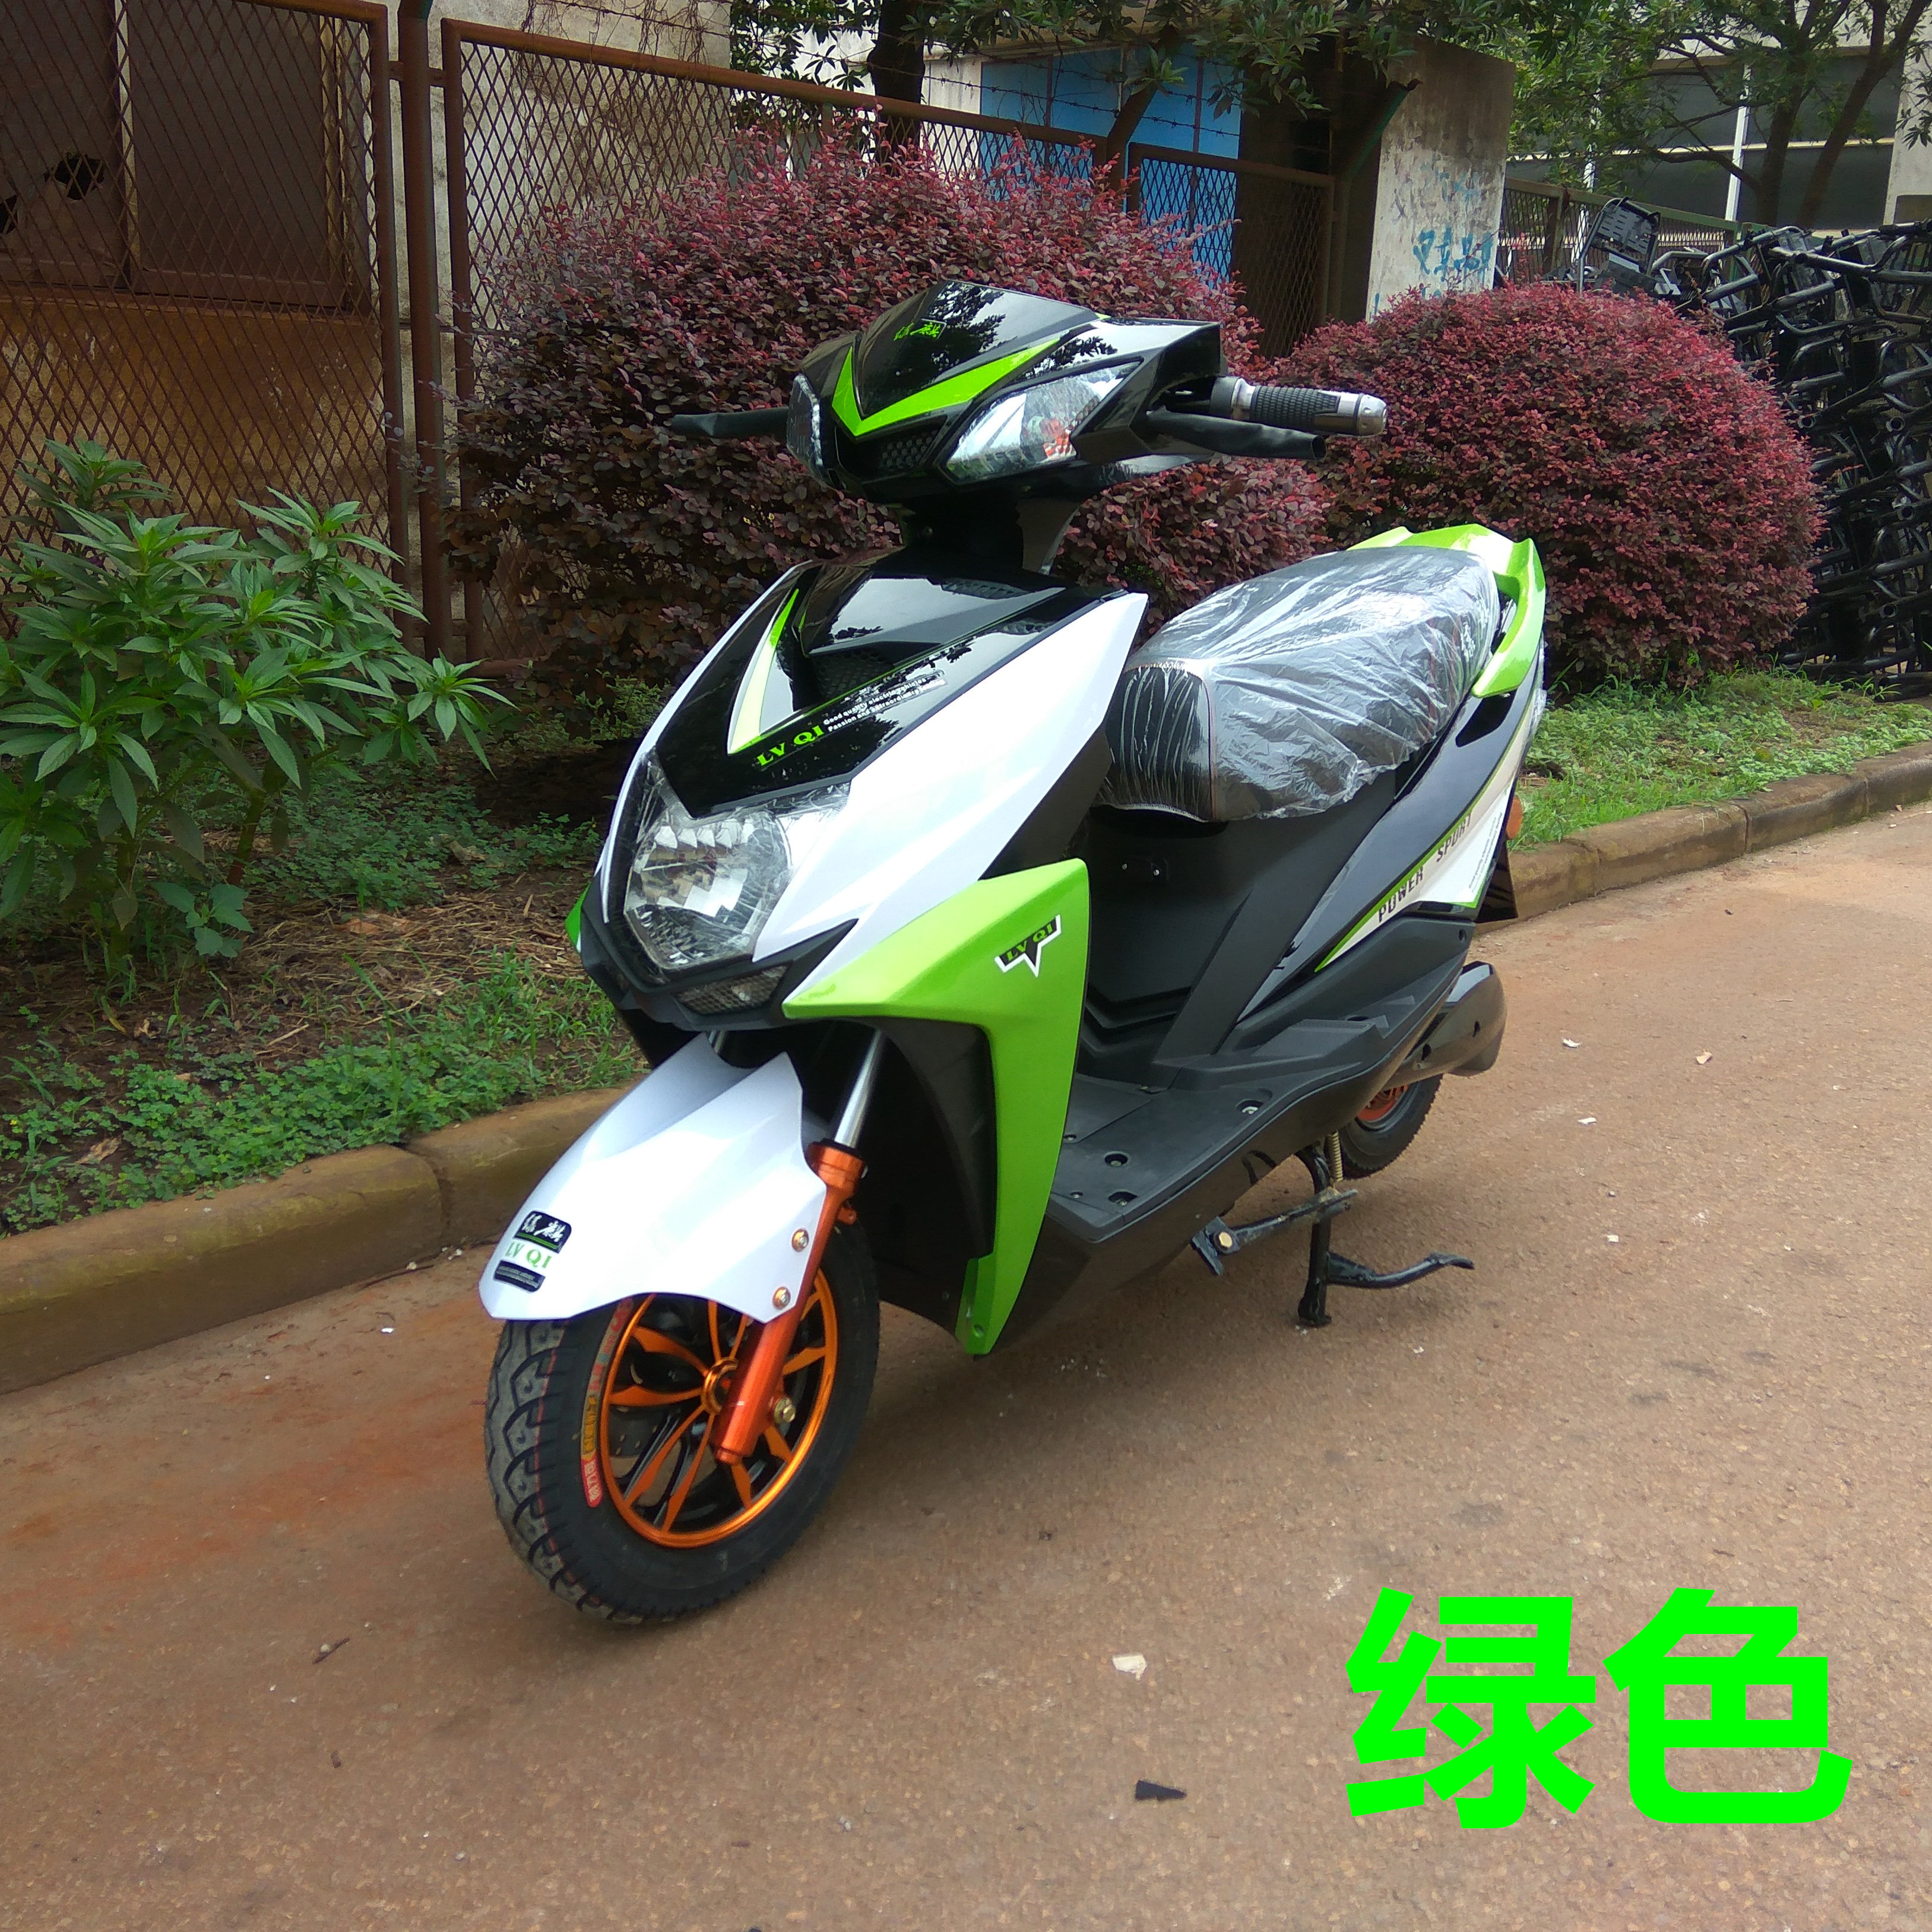电动车: (455, 249, 1566, 1674)
